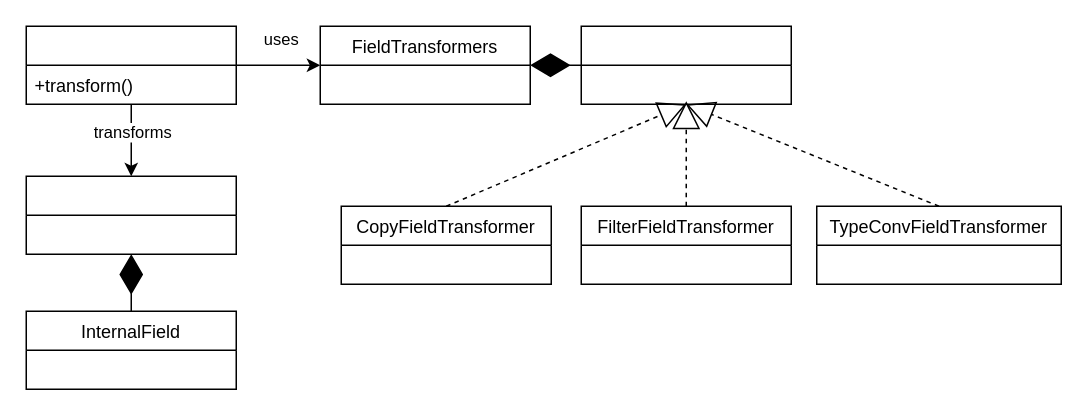
This 1088x416 diagram has some shape labels left out. The box of each missing label's shape, as (x1, y1, x2, y2) in pixels:
FieldTransformer: (580, 25, 791, 104)
InternalMessage: (25, 175, 236, 254)
MessageTransformer: (25, 25, 236, 104)
